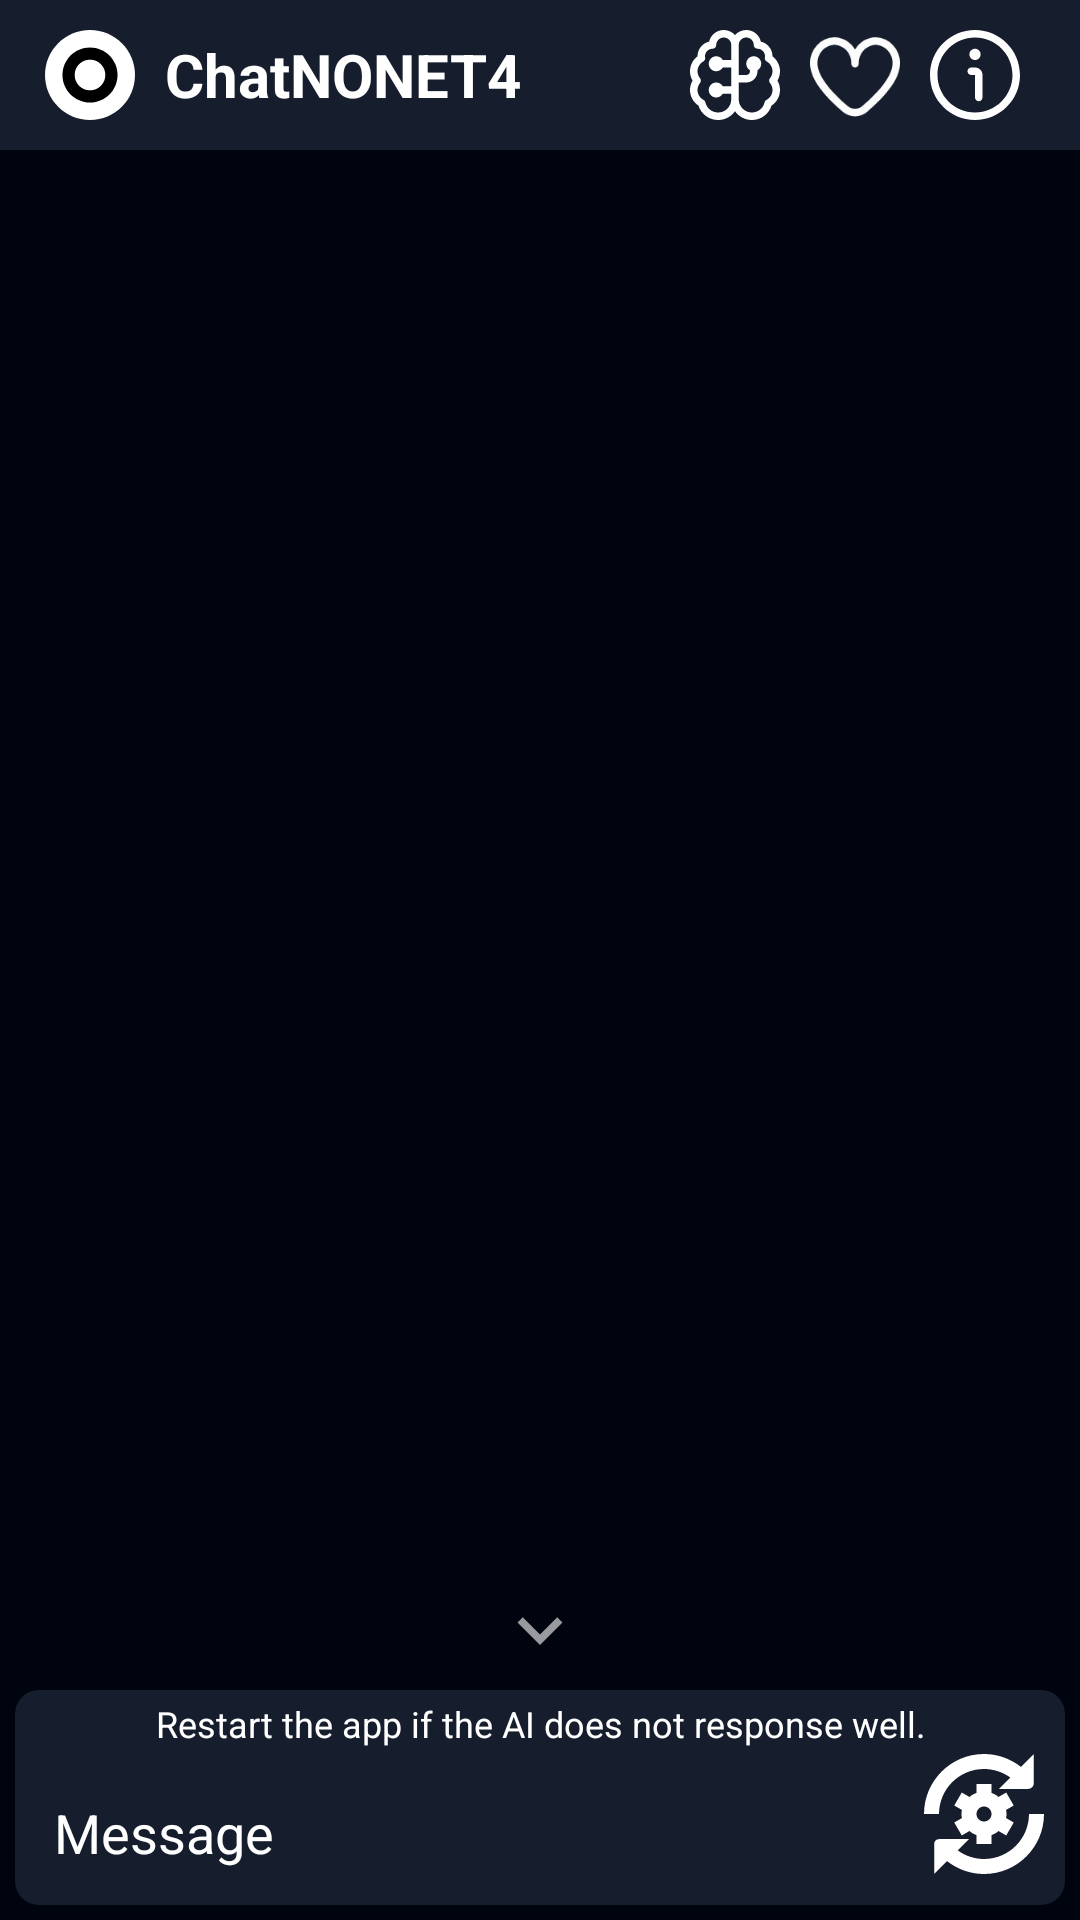

Screen size 1080*1920. Icon name, then its center in pixels as (x,y):
chatnonet app info: (975,75)
chatnonet arrow down: (540,1631)
chatnonet brain model: (735,75)
heart: (855,77)
